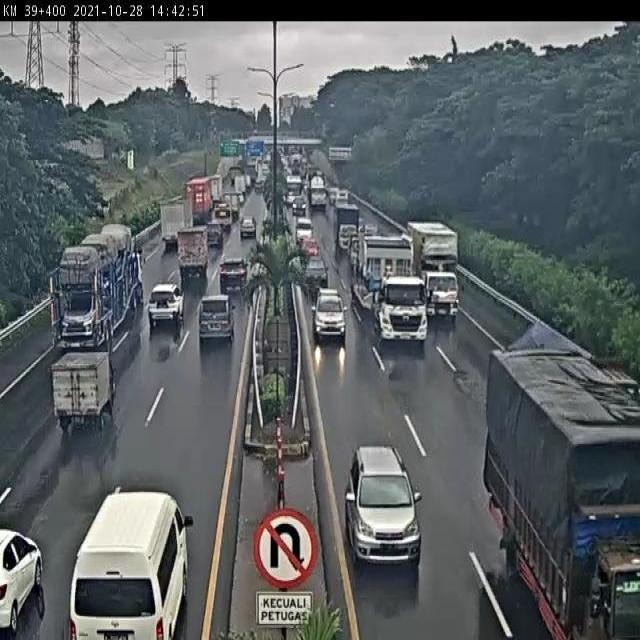big truck: (62, 217, 146, 332)
car: (344, 444, 423, 565), (0, 530, 46, 634), (312, 285, 349, 339), (198, 296, 232, 340), (149, 289, 186, 327), (303, 253, 328, 291), (221, 256, 249, 284), (300, 236, 322, 263)
small bus: (75, 489, 189, 640)
small truck: (64, 336, 122, 403)
truck-l-: (412, 225, 462, 318)
truck-m-: (178, 224, 210, 280), (336, 207, 360, 252)
truck-xl-: (354, 231, 431, 345)
